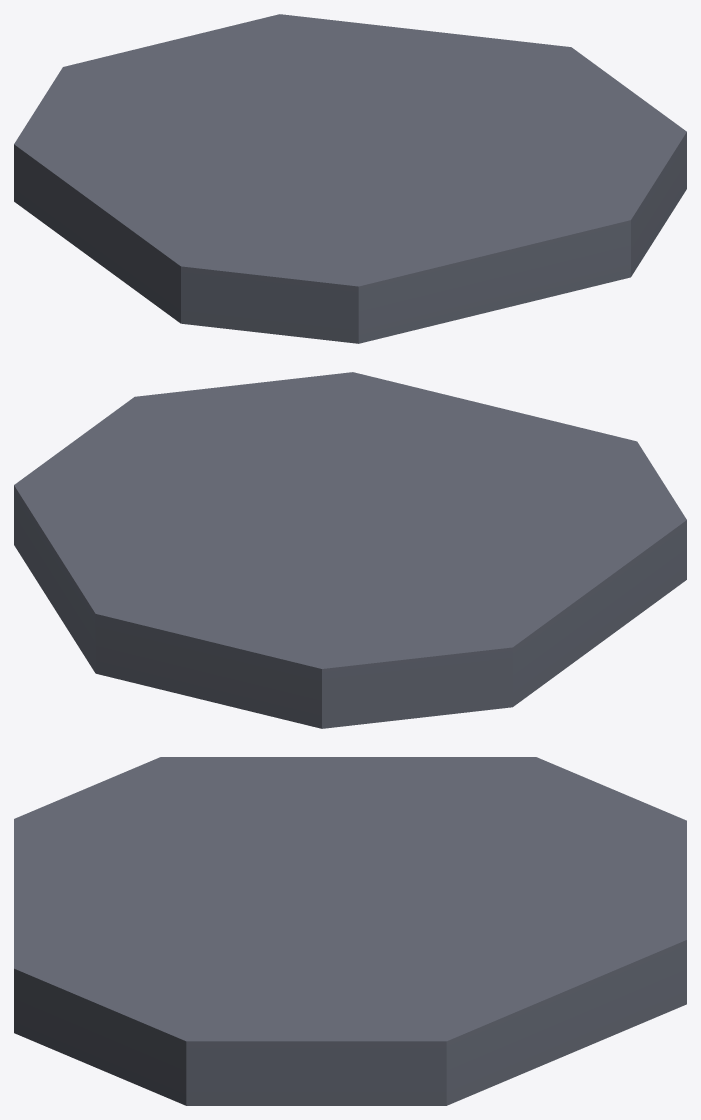
The model's file is Tile_01.fbx.
3 renders of one model, top to bottom at view 1: azimuth 30°, elevation 25°; view 2: azimuth 150°, elevation 25°; view 3: azimuth 270°, elevation 25°, orthographic. The views are drawn at different scales.
Visible parts, largest first — view 1: Tile_01; view 2: Tile_01; view 3: Tile_01.
Boxes of the visible parts, x1,y1,x2,y2 form: Tile_01: (14, 14, 686, 343); Tile_01: (14, 372, 686, 728); Tile_01: (14, 757, 686, 1105).
Size of the model in its own units: 0.4878 by 0.0516 by 0.4878.
